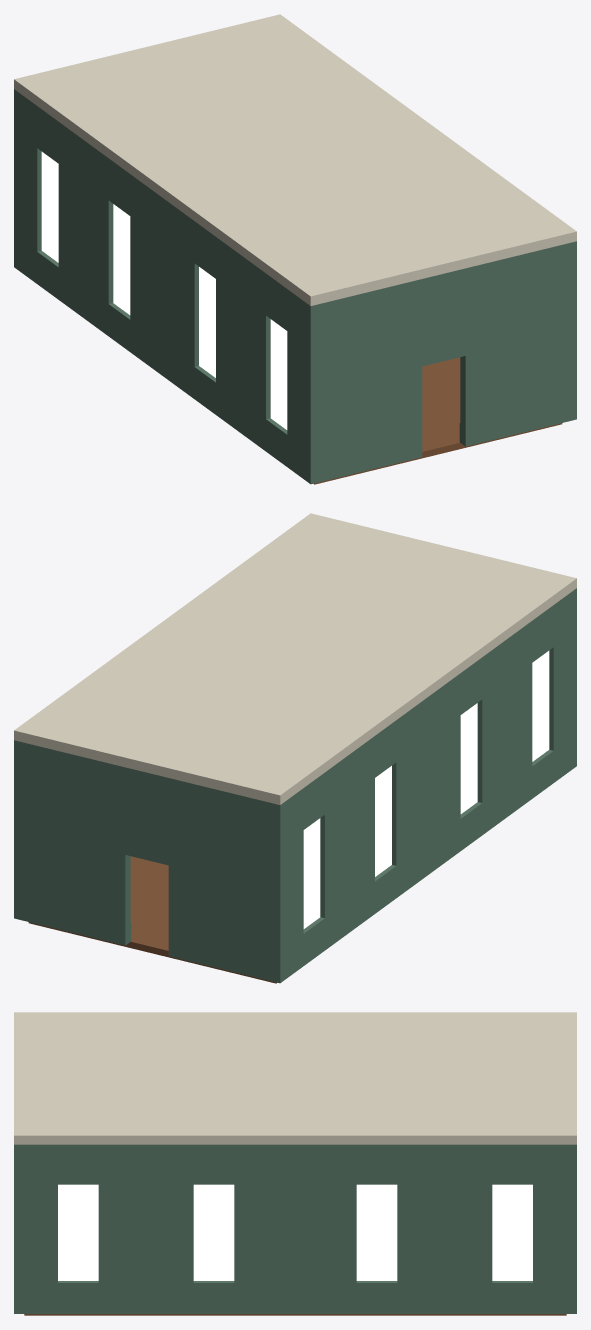
The model's file is exhibition-room.glb.
The picture shows the model from 3 angles, top to bottom: view 1: azimuth 30°, elevation 25°; view 2: azimuth 150°, elevation 25°; view 3: azimuth 270°, elevation 25°; orthographic projection. The views are drawn at different scales.
Parts seen in each view (by area): view 1: Architecture_Room; view 2: Architecture_Room; view 3: Architecture_Room.
Part boxes in pixels (x1=…): Architecture_Room: x1=14, y1=14, x2=576, y2=484; Architecture_Room: x1=14, y1=513, x2=576, y2=983; Architecture_Room: x1=14, y1=1012, x2=576, y2=1315.
Size of what is drawn, in the model's own units: 8.6 by 6 by 16.6.
